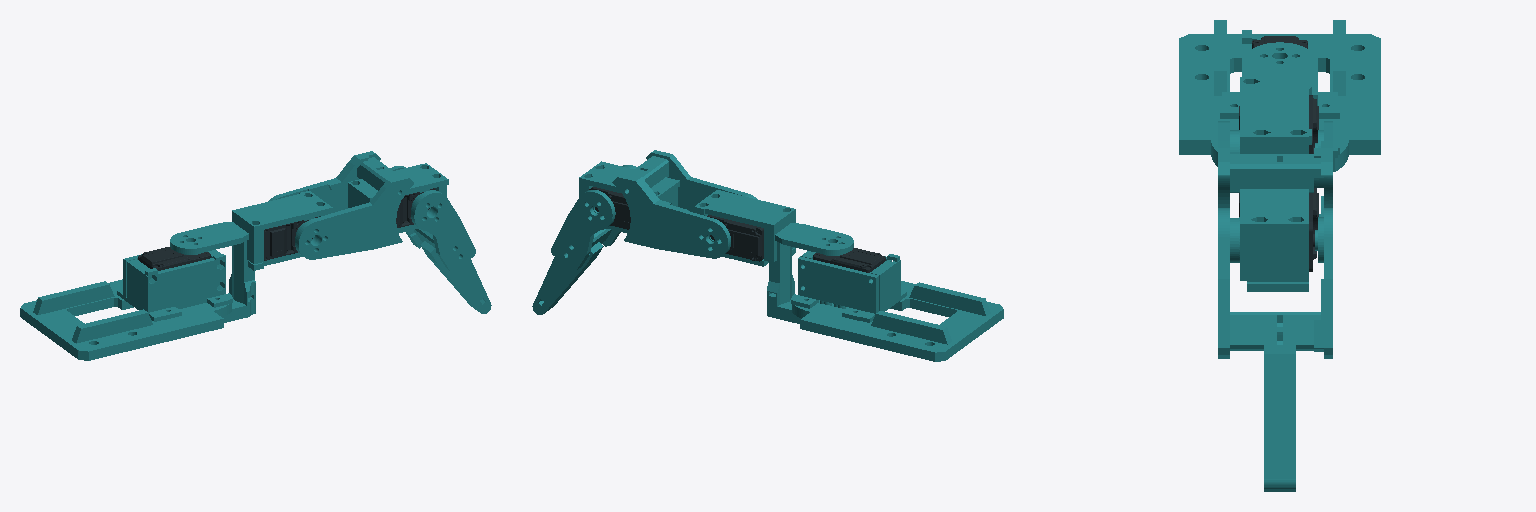
robot.urdf — single_leg_r6:
<?xml version='1.0' encoding='utf-8'?>
<robot name="single_leg_r6">
  <link name="base_mount">
    <visual name="yaw_case_saddle">
      <geometry>
        <mesh filename="assembly_mesh/yaw_case_saddle.stl" scale="0.001 0.001 0.001" />
      </geometry>
      <material name="yaw_case_saddle_colour">
        <color rgba="0.22 0.58 0.60 1" />
      </material>
    </visual>
    <collision name="yaw_case_saddle">
      <geometry>
        <mesh filename="assembly_mesh/yaw_case_saddle.stl" scale="0.001 0.001 0.001" />
      </geometry>
    </collision>
    <visual name="case_cap_yaw">
      <geometry>
        <mesh filename="assembly_mesh/case_cap_yaw.stl" scale="0.001 0.001 0.001" />
      </geometry>
      <material name="case_cap_yaw_colour">
        <color rgba="0.22 0.58 0.60 1" />
      </material>
    </visual>
    <collision name="case_cap_yaw">
      <geometry>
        <mesh filename="assembly_mesh/case_cap_yaw.stl" scale="0.001 0.001 0.001" />
      </geometry>
    </collision>
    <visual name="servo_yaw">
      <geometry>
        <mesh filename="assembly_mesh/servo_yaw.stl" scale="0.001 0.001 0.001" />
      </geometry>
      <material name="servo_yaw_colour">
        <color rgba="0.18 0.23 0.25 1" />
      </material>
    </visual>
    <collision name="servo_yaw">
      <geometry>
        <mesh filename="assembly_mesh/servo_yaw.stl" scale="0.001 0.001 0.001" />
      </geometry>
    </collision>
    <visual name="bench_mounting_plate">
      <geometry>
        <mesh filename="assembly_mesh/bench_mounting_plate.stl" scale="0.001 0.001 0.001" />
      </geometry>
      <material name="bench_mounting_plate_colour">
        <color rgba="0.22 0.58 0.60 1" />
      </material>
    </visual>
    <collision name="bench_mounting_plate">
      <geometry>
        <mesh filename="assembly_mesh/bench_mounting_plate.stl" scale="0.001 0.001 0.001" />
      </geometry>
    </collision>
    <inertial>
      <origin xyz="-0.03181038563164084 -4.9075545814887306e-05 -0.023931630508960546" />
      <mass value="0.15654936271041547" />
      <inertia ixx="8.672821644569633e-05" ixy="7.806166264533957e-08" ixz="-2.9782332326370206e-05" iyy="0.00020871868933529337" iyz="-3.694922418017422e-08" izz="0.0002518412264048065" />
    </inertial>
  </link>
  <link name="coxa">
    <visual name="coxa_upper_and_hip_saddle">
      <geometry>
        <mesh filename="assembly_mesh/coxa_upper_and_hip_saddle.stl" scale="0.001 0.001 0.001" />
      </geometry>
      <material name="coxa_upper_and_hip_saddle_colour">
        <color rgba="0.22 0.58 0.60 1" />
      </material>
    </visual>
    <collision name="coxa_upper_and_hip_saddle">
      <geometry>
        <mesh filename="assembly_mesh/coxa_upper_and_hip_saddle.stl" scale="0.001 0.001 0.001" />
      </geometry>
    </collision>
    <visual name="coxa_lower_auxiliary_arm">
      <geometry>
        <mesh filename="assembly_mesh/coxa_lower_auxiliary_arm.stl" scale="0.001 0.001 0.001" />
      </geometry>
      <material name="coxa_lower_auxiliary_arm_colour">
        <color rgba="0.22 0.58 0.60 1" />
      </material>
    </visual>
    <collision name="coxa_lower_auxiliary_arm">
      <geometry>
        <mesh filename="assembly_mesh/coxa_lower_auxiliary_arm.stl" scale="0.001 0.001 0.001" />
      </geometry>
    </collision>
    <visual name="case_cap_hip">
      <geometry>
        <mesh filename="assembly_mesh/case_cap_hip.stl" scale="0.001 0.001 0.001" />
      </geometry>
      <material name="case_cap_hip_colour">
        <color rgba="0.22 0.58 0.60 1" />
      </material>
    </visual>
    <collision name="case_cap_hip">
      <geometry>
        <mesh filename="assembly_mesh/case_cap_hip.stl" scale="0.001 0.001 0.001" />
      </geometry>
    </collision>
    <visual name="servo_hip">
      <geometry>
        <mesh filename="assembly_mesh/servo_hip.stl" scale="0.001 0.001 0.001" />
      </geometry>
      <material name="servo_hip_colour">
        <color rgba="0.18 0.23 0.25 1" />
      </material>
    </visual>
    <collision name="servo_hip">
      <geometry>
        <mesh filename="assembly_mesh/servo_hip.stl" scale="0.001 0.001 0.001" />
      </geometry>
    </collision>
    <visual name="horn_yaw_main">
      <geometry>
        <mesh filename="assembly_mesh/horn_yaw_main.stl" scale="0.001 0.001 0.001" />
      </geometry>
      <material name="horn_yaw_main_colour">
        <color rgba="0.22 0.58 0.60 1" />
      </material>
    </visual>
    <collision name="horn_yaw_main">
      <geometry>
        <mesh filename="assembly_mesh/horn_yaw_main.stl" scale="0.001 0.001 0.001" />
      </geometry>
    </collision>
    <visual name="horn_yaw_auxiliary">
      <geometry>
        <mesh filename="assembly_mesh/horn_yaw_auxiliary.stl" scale="0.001 0.001 0.001" />
      </geometry>
      <material name="horn_yaw_auxiliary_colour">
        <color rgba="0.22 0.58 0.60 1" />
      </material>
    </visual>
    <collision name="horn_yaw_auxiliary">
      <geometry>
        <mesh filename="assembly_mesh/horn_yaw_auxiliary.stl" scale="0.001 0.001 0.001" />
      </geometry>
    </collision>
    <visual name="yaw_auxiliary_spacer_1">
      <geometry>
        <mesh filename="assembly_mesh/yaw_auxiliary_spacer_1.stl" scale="0.001 0.001 0.001" />
      </geometry>
      <material name="yaw_auxiliary_spacer_1_colour">
        <color rgba="0.22 0.58 0.60 1" />
      </material>
    </visual>
    <collision name="yaw_auxiliary_spacer_1">
      <geometry>
        <mesh filename="assembly_mesh/yaw_auxiliary_spacer_1.stl" scale="0.001 0.001 0.001" />
      </geometry>
    </collision>
    <visual name="yaw_auxiliary_spacer_2">
      <geometry>
        <mesh filename="assembly_mesh/yaw_auxiliary_spacer_2.stl" scale="0.001 0.001 0.001" />
      </geometry>
      <material name="yaw_auxiliary_spacer_2_colour">
        <color rgba="0.22 0.58 0.60 1" />
      </material>
    </visual>
    <collision name="yaw_auxiliary_spacer_2">
      <geometry>
        <mesh filename="assembly_mesh/yaw_auxiliary_spacer_2.stl" scale="0.001 0.001 0.001" />
      </geometry>
    </collision>
    <visual name="yaw_auxiliary_spacer_3">
      <geometry>
        <mesh filename="assembly_mesh/yaw_auxiliary_spacer_3.stl" scale="0.001 0.001 0.001" />
      </geometry>
      <material name="yaw_auxiliary_spacer_3_colour">
        <color rgba="0.22 0.58 0.60 1" />
      </material>
    </visual>
    <collision name="yaw_auxiliary_spacer_3">
      <geometry>
        <mesh filename="assembly_mesh/yaw_auxiliary_spacer_3.stl" scale="0.001 0.001 0.001" />
      </geometry>
    </collision>
    <visual name="yaw_auxiliary_spacer_4">
      <geometry>
        <mesh filename="assembly_mesh/yaw_auxiliary_spacer_4.stl" scale="0.001 0.001 0.001" />
      </geometry>
      <material name="yaw_auxiliary_spacer_4_colour">
        <color rgba="0.22 0.58 0.60 1" />
      </material>
    </visual>
    <collision name="yaw_auxiliary_spacer_4">
      <geometry>
        <mesh filename="assembly_mesh/yaw_auxiliary_spacer_4.stl" scale="0.001 0.001 0.001" />
      </geometry>
    </collision>
    <inertial>
      <origin xyz="0.055452587774020255 -0.00032622706613614225 -0.007411181974307129" />
      <mass value="0.11618827437852595" />
      <inertia ixx="4.884448832271316e-05" ixy="7.745356217217634e-07" ixz="-3.0773868545057644e-05" iyy="0.0001315815648874679" iyz="5.456770085067065e-07" izz="9.845169734911079e-05" />
    </inertial>
  </link>
  <link name="femur">
    <visual name="femur_main_and_knee_saddle">
      <geometry>
        <mesh filename="assembly_mesh/femur_main_and_knee_saddle.stl" scale="0.001 0.001 0.001" />
      </geometry>
      <material name="femur_main_and_knee_saddle_colour">
        <color rgba="0.22 0.58 0.60 1" />
      </material>
    </visual>
    <collision name="femur_main_and_knee_saddle">
      <geometry>
        <mesh filename="assembly_mesh/femur_main_and_knee_saddle.stl" scale="0.001 0.001 0.001" />
      </geometry>
    </collision>
    <visual name="femur_auxiliary_cheek">
      <geometry>
        <mesh filename="assembly_mesh/femur_auxiliary_cheek.stl" scale="0.001 0.001 0.001" />
      </geometry>
      <material name="femur_auxiliary_cheek_colour">
        <color rgba="0.22 0.58 0.60 1" />
      </material>
    </visual>
    <collision name="femur_auxiliary_cheek">
      <geometry>
        <mesh filename="assembly_mesh/femur_auxiliary_cheek.stl" scale="0.001 0.001 0.001" />
      </geometry>
    </collision>
    <visual name="case_cap_knee">
      <geometry>
        <mesh filename="assembly_mesh/case_cap_knee.stl" scale="0.001 0.001 0.001" />
      </geometry>
      <material name="case_cap_knee_colour">
        <color rgba="0.22 0.58 0.60 1" />
      </material>
    </visual>
    <collision name="case_cap_knee">
      <geometry>
        <mesh filename="assembly_mesh/case_cap_knee.stl" scale="0.001 0.001 0.001" />
      </geometry>
    </collision>
    <visual name="servo_knee">
      <geometry>
        <mesh filename="assembly_mesh/servo_knee.stl" scale="0.001 0.001 0.001" />
      </geometry>
      <material name="servo_knee_colour">
        <color rgba="0.18 0.23 0.25 1" />
      </material>
    </visual>
    <collision name="servo_knee">
      <geometry>
        <mesh filename="assembly_mesh/servo_knee.stl" scale="0.001 0.001 0.001" />
      </geometry>
    </collision>
    <visual name="horn_hip_main">
      <geometry>
        <mesh filename="assembly_mesh/horn_hip_main.stl" scale="0.001 0.001 0.001" />
      </geometry>
      <material name="horn_hip_main_colour">
        <color rgba="0.22 0.58 0.60 1" />
      </material>
    </visual>
    <collision name="horn_hip_main">
      <geometry>
        <mesh filename="assembly_mesh/horn_hip_main.stl" scale="0.001 0.001 0.001" />
      </geometry>
    </collision>
    <visual name="horn_hip_auxiliary">
      <geometry>
        <mesh filename="assembly_mesh/horn_hip_auxiliary.stl" scale="0.001 0.001 0.001" />
      </geometry>
      <material name="horn_hip_auxiliary_colour">
        <color rgba="0.22 0.58 0.60 1" />
      </material>
    </visual>
    <collision name="horn_hip_auxiliary">
      <geometry>
        <mesh filename="assembly_mesh/horn_hip_auxiliary.stl" scale="0.001 0.001 0.001" />
      </geometry>
    </collision>
    <inertial>
      <origin xyz="0.0633651760426129 -0.001298314040615189 0.001934967497040738" />
      <mass value="0.12491601583063594" />
      <inertia ixx="3.8022032231092195e-05" ixy="-3.321671674319615e-06" ixz="-3.950552346680719e-07" iyy="0.00011345261288137595" iyz="3.8489769422451107e-07" izz="0.00012329667234778685" />
    </inertial>
  </link>
  <link name="tibia">
    <visual name="tibia_curved_main_and_foot">
      <geometry>
        <mesh filename="assembly_mesh/tibia_curved_main_and_foot.stl" scale="0.001 0.001 0.001" />
      </geometry>
      <material name="tibia_curved_main_and_foot_colour">
        <color rgba="0.22 0.58 0.60 1" />
      </material>
    </visual>
    <collision name="tibia_curved_main_and_foot">
      <geometry>
        <mesh filename="assembly_mesh/tibia_curved_main_and_foot.stl" scale="0.001 0.001 0.001" />
      </geometry>
    </collision>
    <visual name="tibia_auxiliary_cheek">
      <geometry>
        <mesh filename="assembly_mesh/tibia_auxiliary_cheek.stl" scale="0.001 0.001 0.001" />
      </geometry>
      <material name="tibia_auxiliary_cheek_colour">
        <color rgba="0.22 0.58 0.60 1" />
      </material>
    </visual>
    <collision name="tibia_auxiliary_cheek">
      <geometry>
        <mesh filename="assembly_mesh/tibia_auxiliary_cheek.stl" scale="0.001 0.001 0.001" />
      </geometry>
    </collision>
    <visual name="horn_knee_main">
      <geometry>
        <mesh filename="assembly_mesh/horn_knee_main.stl" scale="0.001 0.001 0.001" />
      </geometry>
      <material name="horn_knee_main_colour">
        <color rgba="0.22 0.58 0.60 1" />
      </material>
    </visual>
    <collision name="horn_knee_main">
      <geometry>
        <mesh filename="assembly_mesh/horn_knee_main.stl" scale="0.001 0.001 0.001" />
      </geometry>
    </collision>
    <visual name="horn_knee_auxiliary">
      <geometry>
        <mesh filename="assembly_mesh/horn_knee_auxiliary.stl" scale="0.001 0.001 0.001" />
      </geometry>
      <material name="horn_knee_auxiliary_colour">
        <color rgba="0.22 0.58 0.60 1" />
      </material>
    </visual>
    <collision name="horn_knee_auxiliary">
      <geometry>
        <mesh filename="assembly_mesh/horn_knee_auxiliary.stl" scale="0.001 0.001 0.001" />
      </geometry>
    </collision>
    <inertial>
      <origin xyz="0.0414753995760796 -0.001694745710956234 0.0002991704986421671" />
      <mass value="0.049304916675112435" />
      <inertia ixx="1.341332884585064e-05" ixy="-1.987778173156809e-06" ixz="3.6852256179443966e-07" iyy="4.556212902457954e-05" iyz="3.336425043941025e-08" izz="5.547369214215767e-05" />
    </inertial>
  </link>
  <joint name="yaw" type="revolute">
    <parent link="base_mount" />
    <child link="coxa" />
    <origin xyz="0 0 0" rpy="0 0 0" />
    <axis xyz="0 0 1" />
    <limit lower="-0.9599310885968813" upper="0.9599310885968813" effort="0.8" velocity="0.5" />
    <dynamics damping="0.03" friction="0.0" />
  </joint>
  <joint name="hip" type="revolute">
    <parent link="coxa" />
    <child link="femur" />
    <origin xyz=".082 0 0" rpy="0 0 0" />
    <axis xyz="0 1 0" />
    <limit lower="-0.5235987755982988" upper="1.1344640137963142" effort="0.8" velocity="0.5" />
    <dynamics damping="0.03" friction="0.0" />
  </joint>
  <joint name="knee" type="revolute">
    <parent link="femur" />
    <child link="tibia" />
    <origin xyz=".090 0 0" rpy="0 0 0" />
    <axis xyz="0 1 0" />
    <limit lower="0.08726646259971647" upper="2.007128639793479" effort="0.8" velocity="0.5" />
    <dynamics damping="0.03" friction="0.0" />
  </joint>
</robot>

--- Render facts (derived) ---
Views: 3 orthographic renders of the robot side by side, from view 1: azimuth 30°, elevation 25°; view 2: azimuth 150°, elevation 25°; view 3: azimuth 270°, elevation 25°.
Robot: single_leg_r6 — 4 links, 3 joints (3 revolute); root link base_mount; default pose: joints at zero except 1 at the middle of their limits (knee = 1.05).
Links seen in each view (by area): view 1: base_mount, femur, coxa, tibia; view 2: base_mount, femur, coxa, tibia; view 3: base_mount, femur, tibia, coxa.
Boxes of the visible links, x1,y1,x2,y2 form: base_mount: (20, 247, 232, 360); femur: (268, 151, 448, 259); coxa: (170, 191, 332, 322); tibia: (390, 166, 491, 313); base_mount: (791, 248, 1003, 361); femur: (579, 150, 757, 258); coxa: (694, 190, 853, 323); tibia: (532, 165, 636, 314); base_mount: (1179, 20, 1380, 171); femur: (1218, 121, 1332, 291); tibia: (1218, 208, 1332, 491); coxa: (1239, 42, 1318, 153).
Size in the robot's own frame: 0.3395 by 0.088 by 0.1254 metres.
24 mesh visuals loaded from 24 distinct referenced files (24 binary STL).
